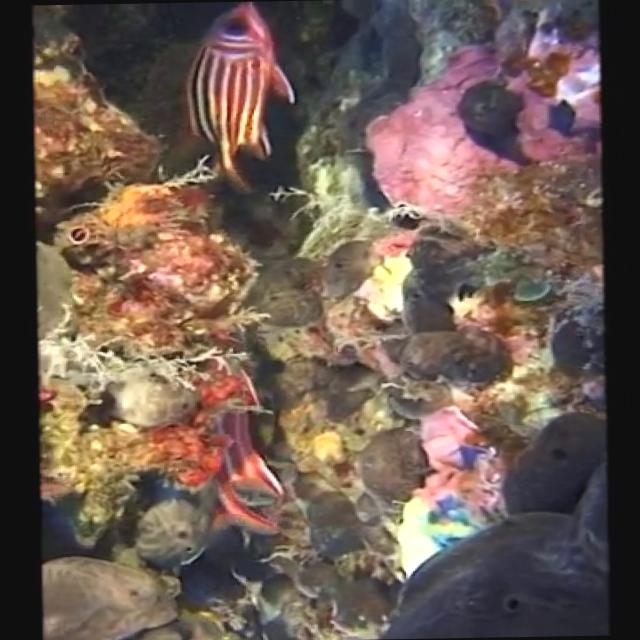Asker Baligi: (179, 2, 298, 196)
